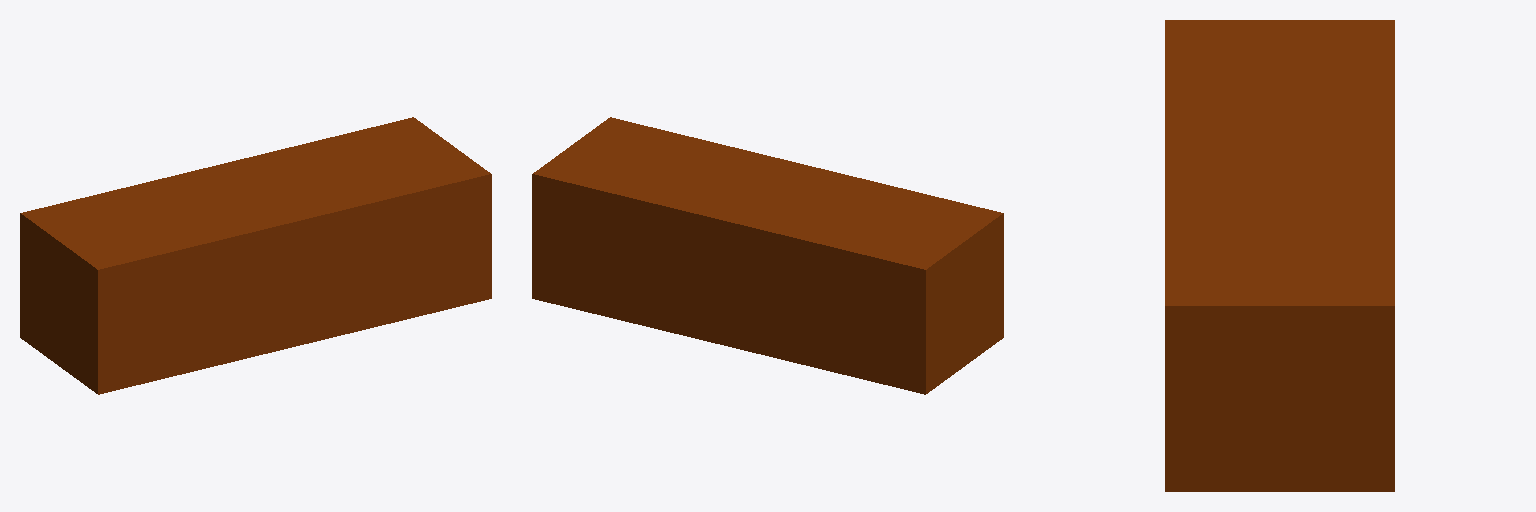
robot.urdf — handle_head:
<?xml version="1.0"?>
<robot name="handle_head">

  <link name="handle_head">
    <!-- Handle -->
    <visual>
      <origin xyz="0 0 0" rpy="0 0 0"/>
      <geometry>
        <box size="0.11936809482441015 0.0407995832319111 0.03620846406716028"/>
      </geometry>
      <material name="brown">
        <color rgba="0.55 0.27 0.07 1.0"/>
      </material>
    </visual>
    <collision>
      <origin xyz="0 0 0" rpy="0 0 0"/>
      <geometry>
        <box size="0.11936809482441015 0.0407995832319111 0.03620846406716028"/>
      </geometry>
    </collision>

    <inertial>
      <origin xyz="0 0 0" rpy="0 0 0"/>
      <mass value="0.08307480798863355"/>
      <inertia ixx="2.060019071669713e-05" iyy="0.00010771891469397792" izz="0.00011016652783621837" ixy="0" ixz="0" iyz="0"/>
    </inertial>
  </link>

</robot>

--- Facts derived from the render (not from the file) ---
The picture shows the robot from 3 angles, left to right: view 1: azimuth 30°, elevation 25°; view 2: azimuth 150°, elevation 25°; view 3: azimuth 270°, elevation 25°; orthographic projection.
Model handle_head with 1 links and 0 joints (none), rooted at handle_head, posed every joint at zero.
Visible links, largest first — view 1: handle_head; view 2: handle_head; view 3: handle_head.
Boxes of the visible links, box(x1,y1,x2,y2) form: handle_head: box(20, 117, 491, 394); handle_head: box(532, 117, 1003, 394); handle_head: box(1165, 20, 1394, 491).
Size in the robot's own frame: 0.1194 by 0.0408 by 0.0362 metres.
Geometry: primitives only (box / cylinder / sphere), no mesh files.
